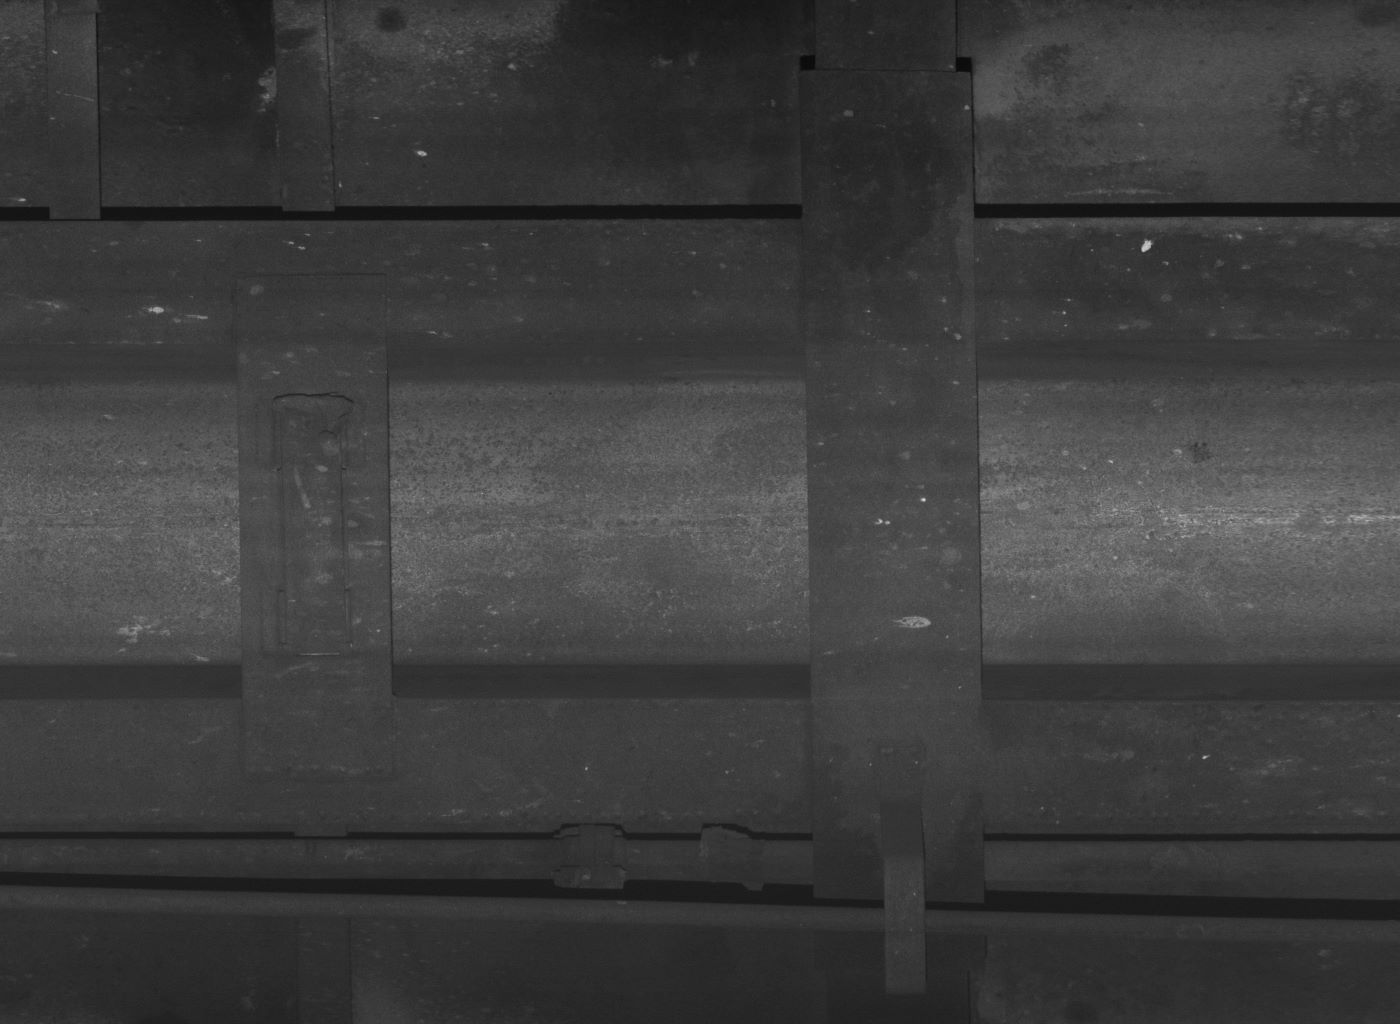normal: (877, 806, 928, 1000)
